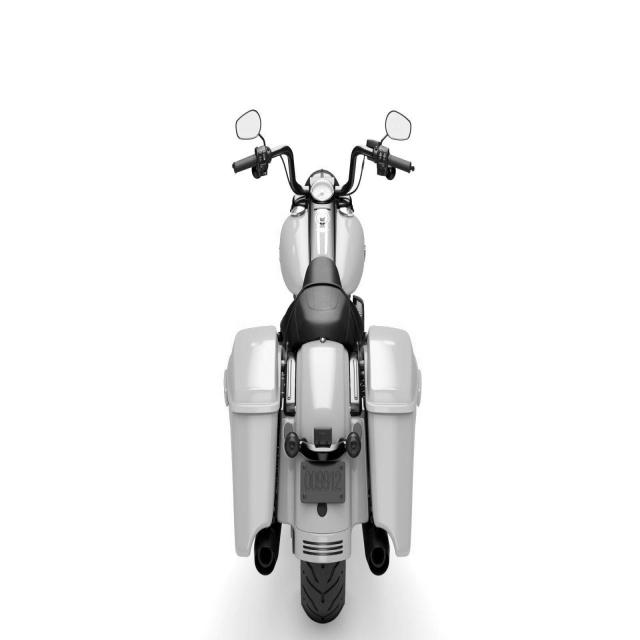Motorcycle: (224, 109, 422, 622)
